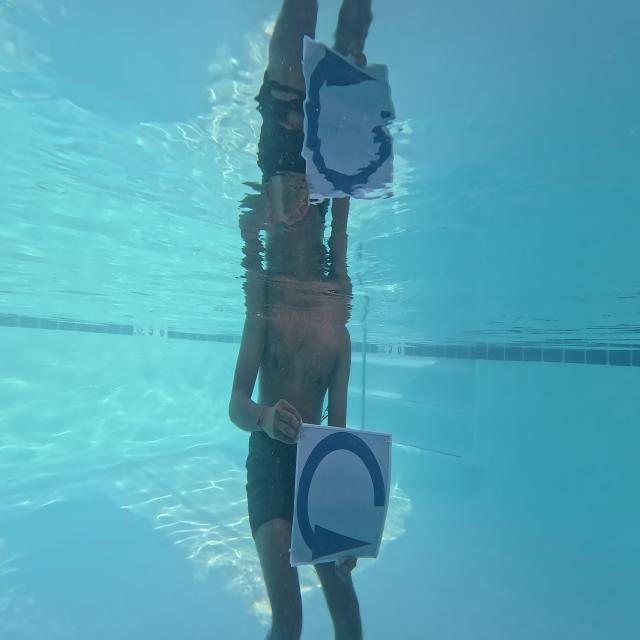blue_side: (292, 418, 392, 565)
